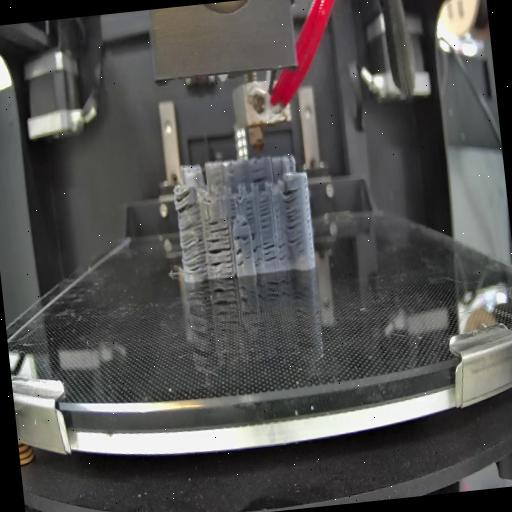cracks: (281, 188, 305, 252), (180, 238, 210, 277), (302, 179, 314, 255), (174, 190, 204, 218), (206, 246, 236, 273), (206, 220, 233, 244), (257, 198, 274, 230), (240, 198, 256, 228), (178, 221, 206, 238), (260, 239, 276, 264), (234, 232, 260, 244), (252, 246, 264, 270), (277, 240, 288, 264), (228, 198, 238, 222), (235, 248, 246, 268), (251, 166, 268, 173), (252, 176, 268, 183)
